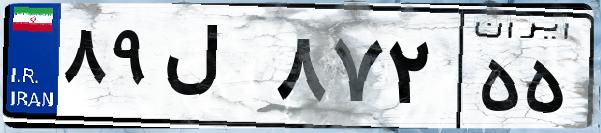2: (385, 28, 445, 110)
5: (475, 38, 525, 113), (525, 38, 570, 115)
7: (330, 28, 385, 110)
8: (270, 28, 330, 110), (57, 26, 110, 100)
9: (110, 28, 158, 98)
ل: (158, 20, 270, 120)
